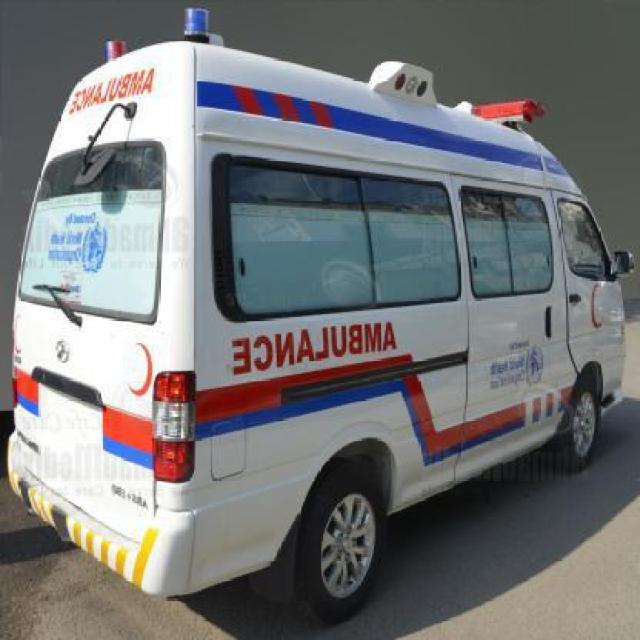Ambulance: (26, 3, 634, 570)
